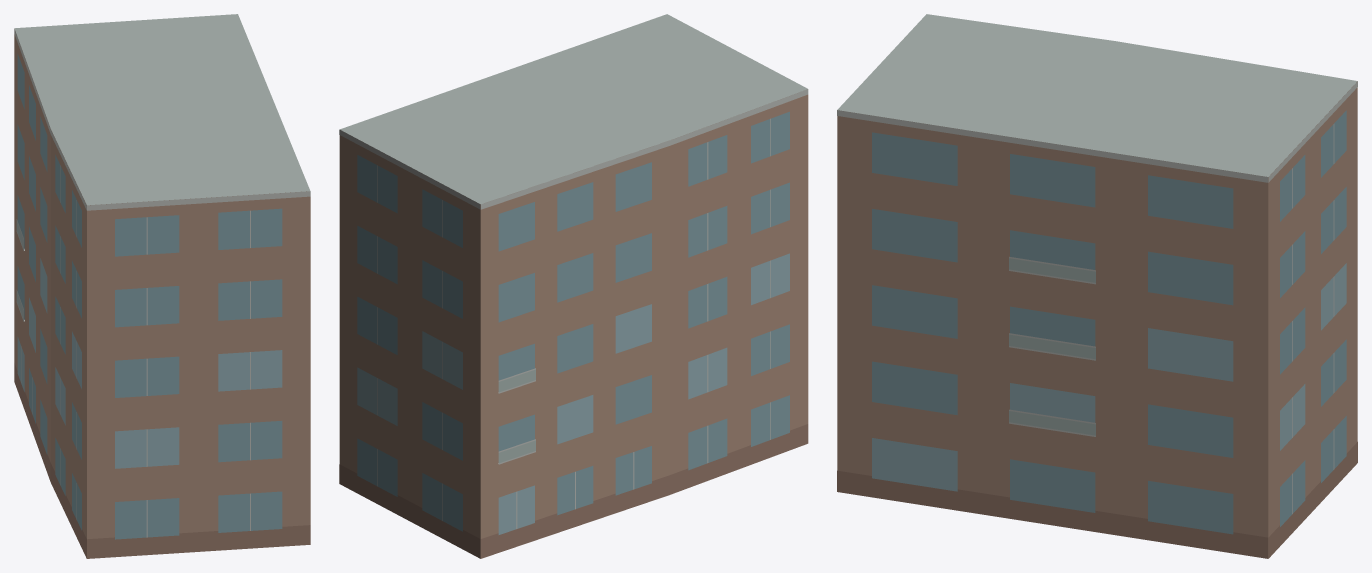
Rendered from survey-upis-32756245.glb.
The picture shows the model from 3 angles, left to right: view 1: azimuth 30°, elevation 25°; view 2: azimuth 150°, elevation 25°; view 3: azimuth 270°, elevation 25°; orthographic projection. The views are drawn at different scales.
Parts seen in each view (by area): view 1: survey-upis-32756245.tmp; view 2: survey-upis-32756245.tmp; view 3: survey-upis-32756245.tmp.
Boxes of the visible parts, bbox=[...] form: survey-upis-32756245.tmp: bbox=[14, 14, 310, 558]; survey-upis-32756245.tmp: bbox=[339, 14, 808, 558]; survey-upis-32756245.tmp: bbox=[837, 14, 1357, 558].
Size of the model in its own units: 14.57 by 15.9 by 19.66.
